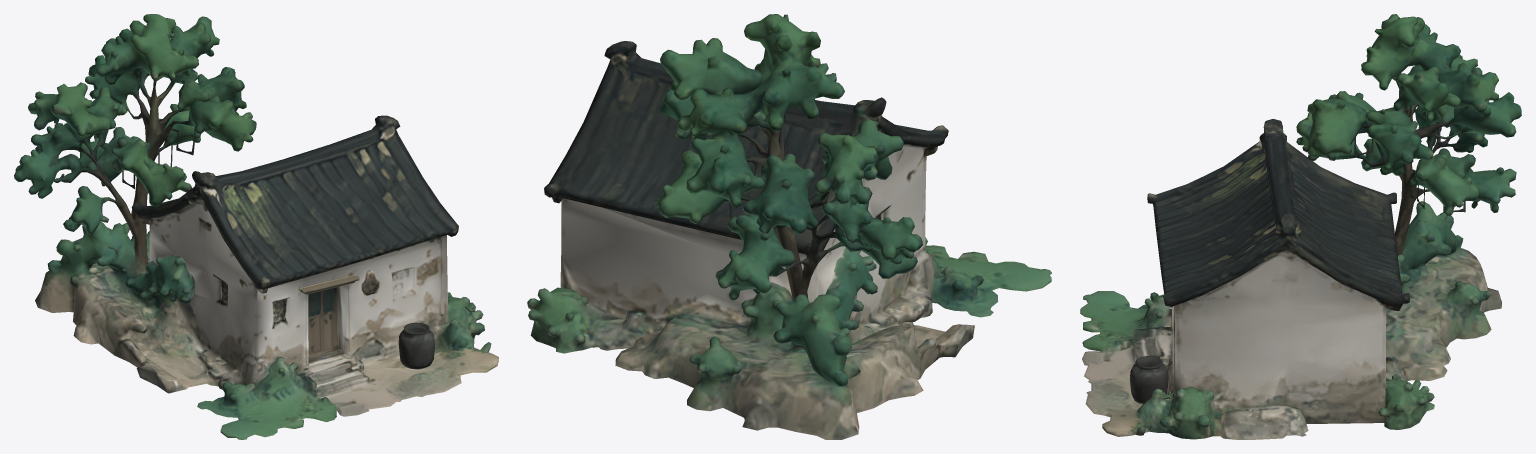
File: house2.glb
3 renders of one model, left to right at view 1: azimuth 30°, elevation 25°; view 2: azimuth 150°, elevation 25°; view 3: azimuth 270°, elevation 25°, orthographic. The views are drawn at different scales.
Visible parts, largest first — view 1: tripo_node_01fe01c4-5882-4888-add4-b8ba6e4dc31a; view 2: tripo_node_01fe01c4-5882-4888-add4-b8ba6e4dc31a; view 3: tripo_node_01fe01c4-5882-4888-add4-b8ba6e4dc31a.
Part boxes in pixels (left/top/right/bottom): tripo_node_01fe01c4-5882-4888-add4-b8ba6e4dc31a: left=14, top=14, right=498, bottom=439; tripo_node_01fe01c4-5882-4888-add4-b8ba6e4dc31a: left=527, top=14, right=1051, bottom=439; tripo_node_01fe01c4-5882-4888-add4-b8ba6e4dc31a: left=1080, top=14, right=1521, bottom=439.
Size of the model in its own units: 0.9692 by 0.8062 by 0.9995.
Materials: 1 (1 with a texture image).
